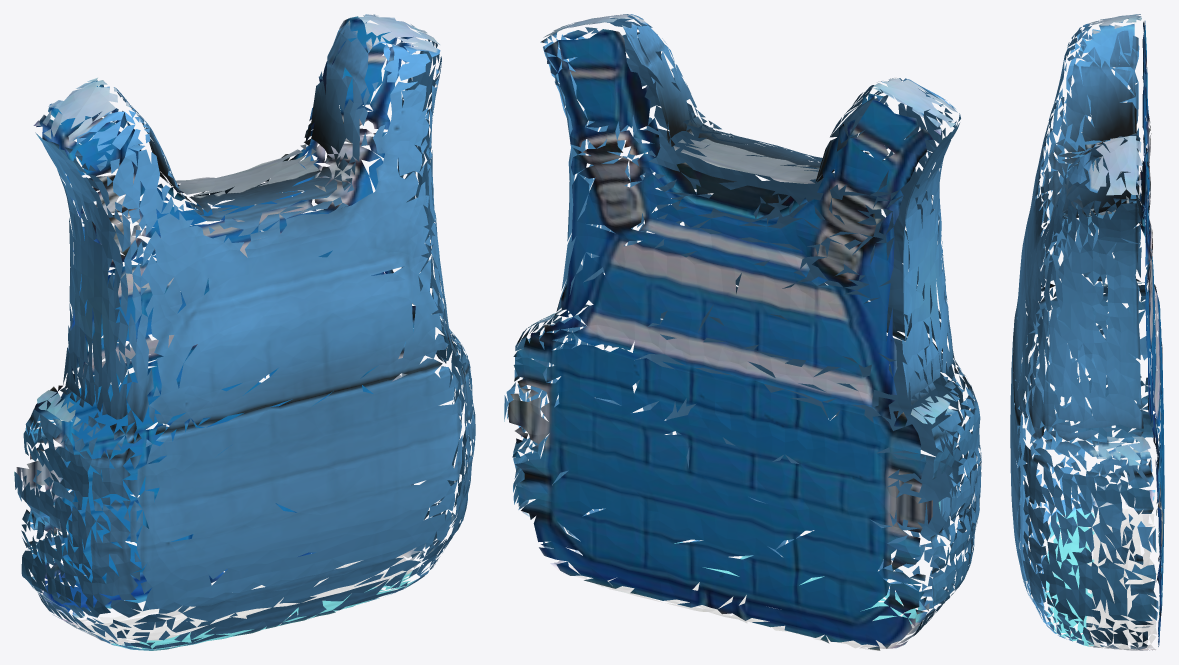
The model's file is wear_chest_guard.glb.
3 views of the same model, side by side, from view 1: azimuth 30°, elevation 25°; view 2: azimuth 150°, elevation 25°; view 3: azimuth 270°, elevation 25° (orthographic). The views are drawn at different scales.
Parts seen in each view (by area): view 1: world; view 2: world; view 3: world.
Boxes of the visible parts, x1,y1,x2,y2 form: world: (14,14,475,650); world: (504,14,981,650); world: (1010,14,1164,650).
Size of the model in its own units: 0.6995 by 0.86 by 0.2375.
Materials: 1 (1 with a texture image).
